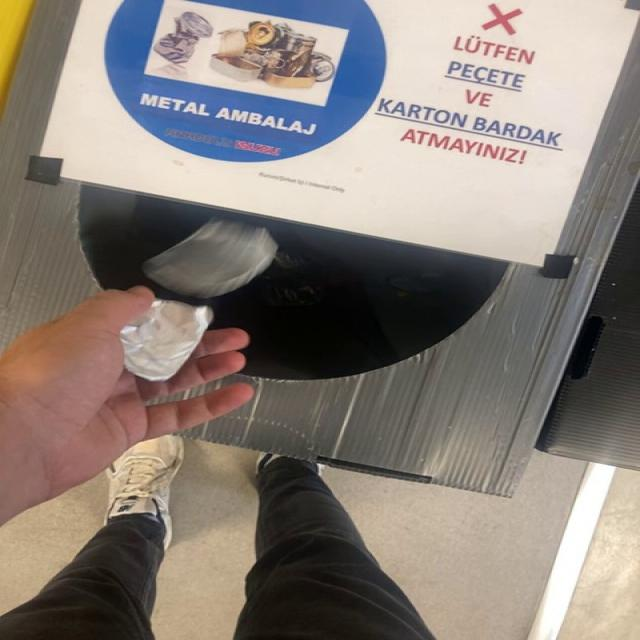bin: (3, 0, 639, 496)
metal: (143, 219, 277, 298)
